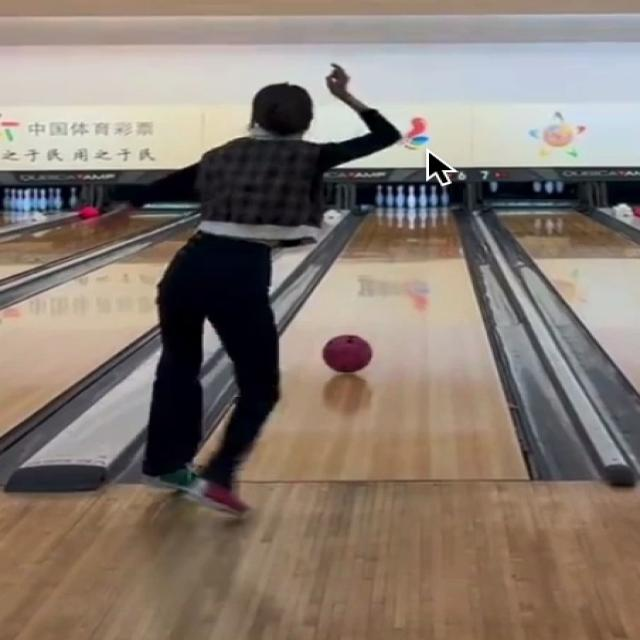alley: (239, 210, 531, 484)
balls: (320, 334, 372, 372)
bottle: (375, 183, 449, 209)
